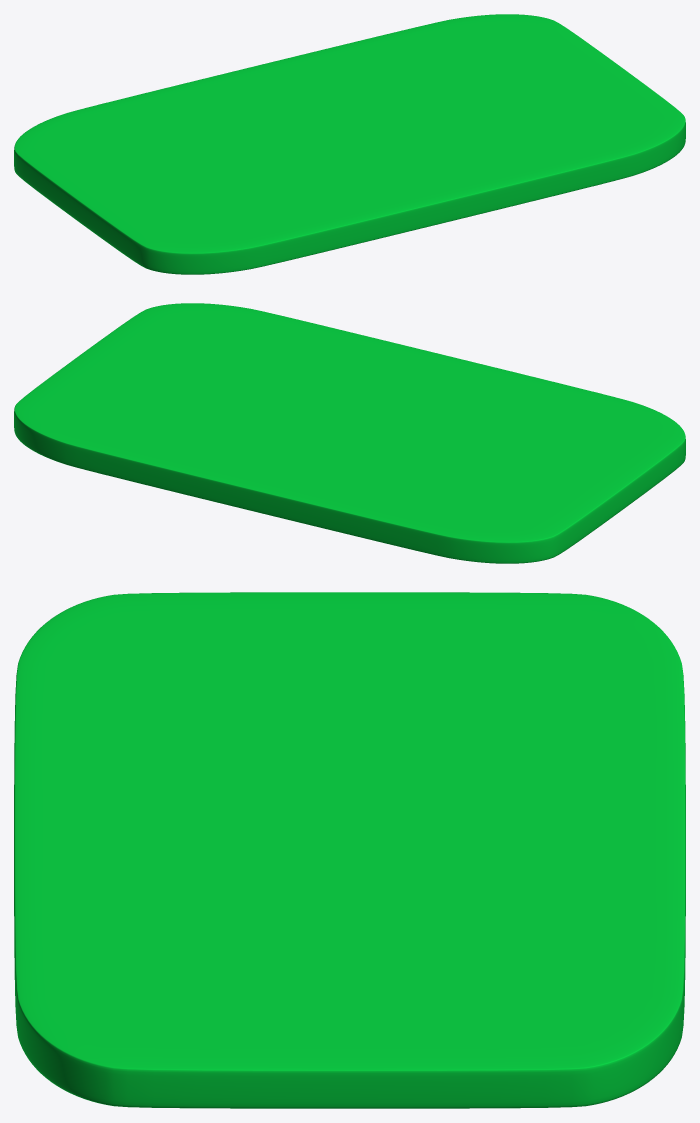
Rendered from exit_button.fbx.
3 renders of one model, top to bottom at view 1: azimuth 30°, elevation 25°; view 2: azimuth 150°, elevation 25°; view 3: azimuth 270°, elevation 25°, orthographic. The views are drawn at different scales.
Visible parts, largest first — view 1: 立方体.001; view 2: 立方体.001; view 3: 立方体.001.
Boxes of the visible parts, box(x1,y1,x2,y2) form: 立方体.001: box(14, 14, 685, 274); 立方体.001: box(14, 303, 685, 563); 立方体.001: box(14, 592, 685, 1108).
Size of the model in its own units: 253 by 10.14 by 150.
